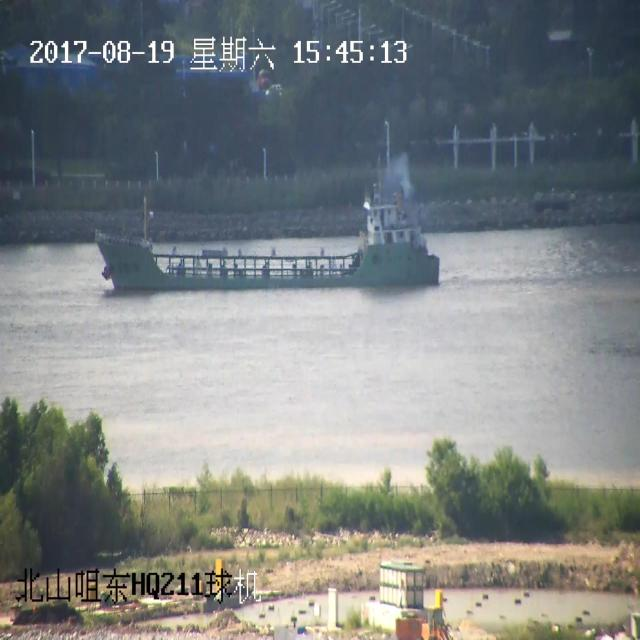houseboat: (84, 141, 442, 319)
